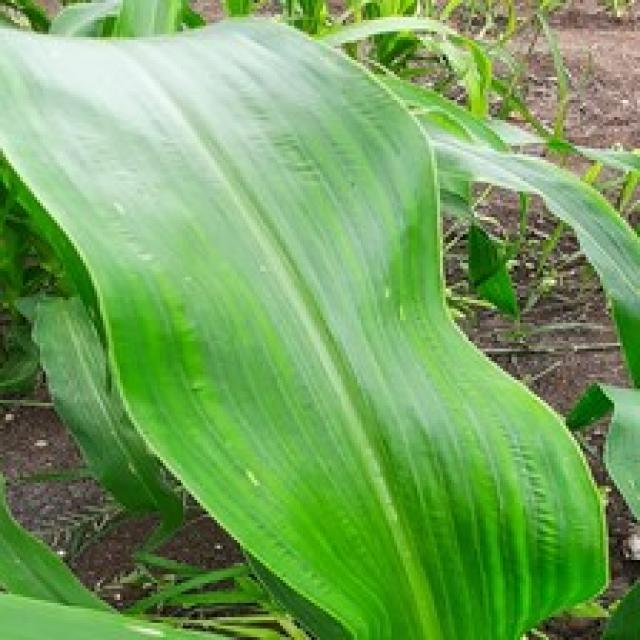Corn: (0, 12, 637, 637), (26, 289, 183, 517)
